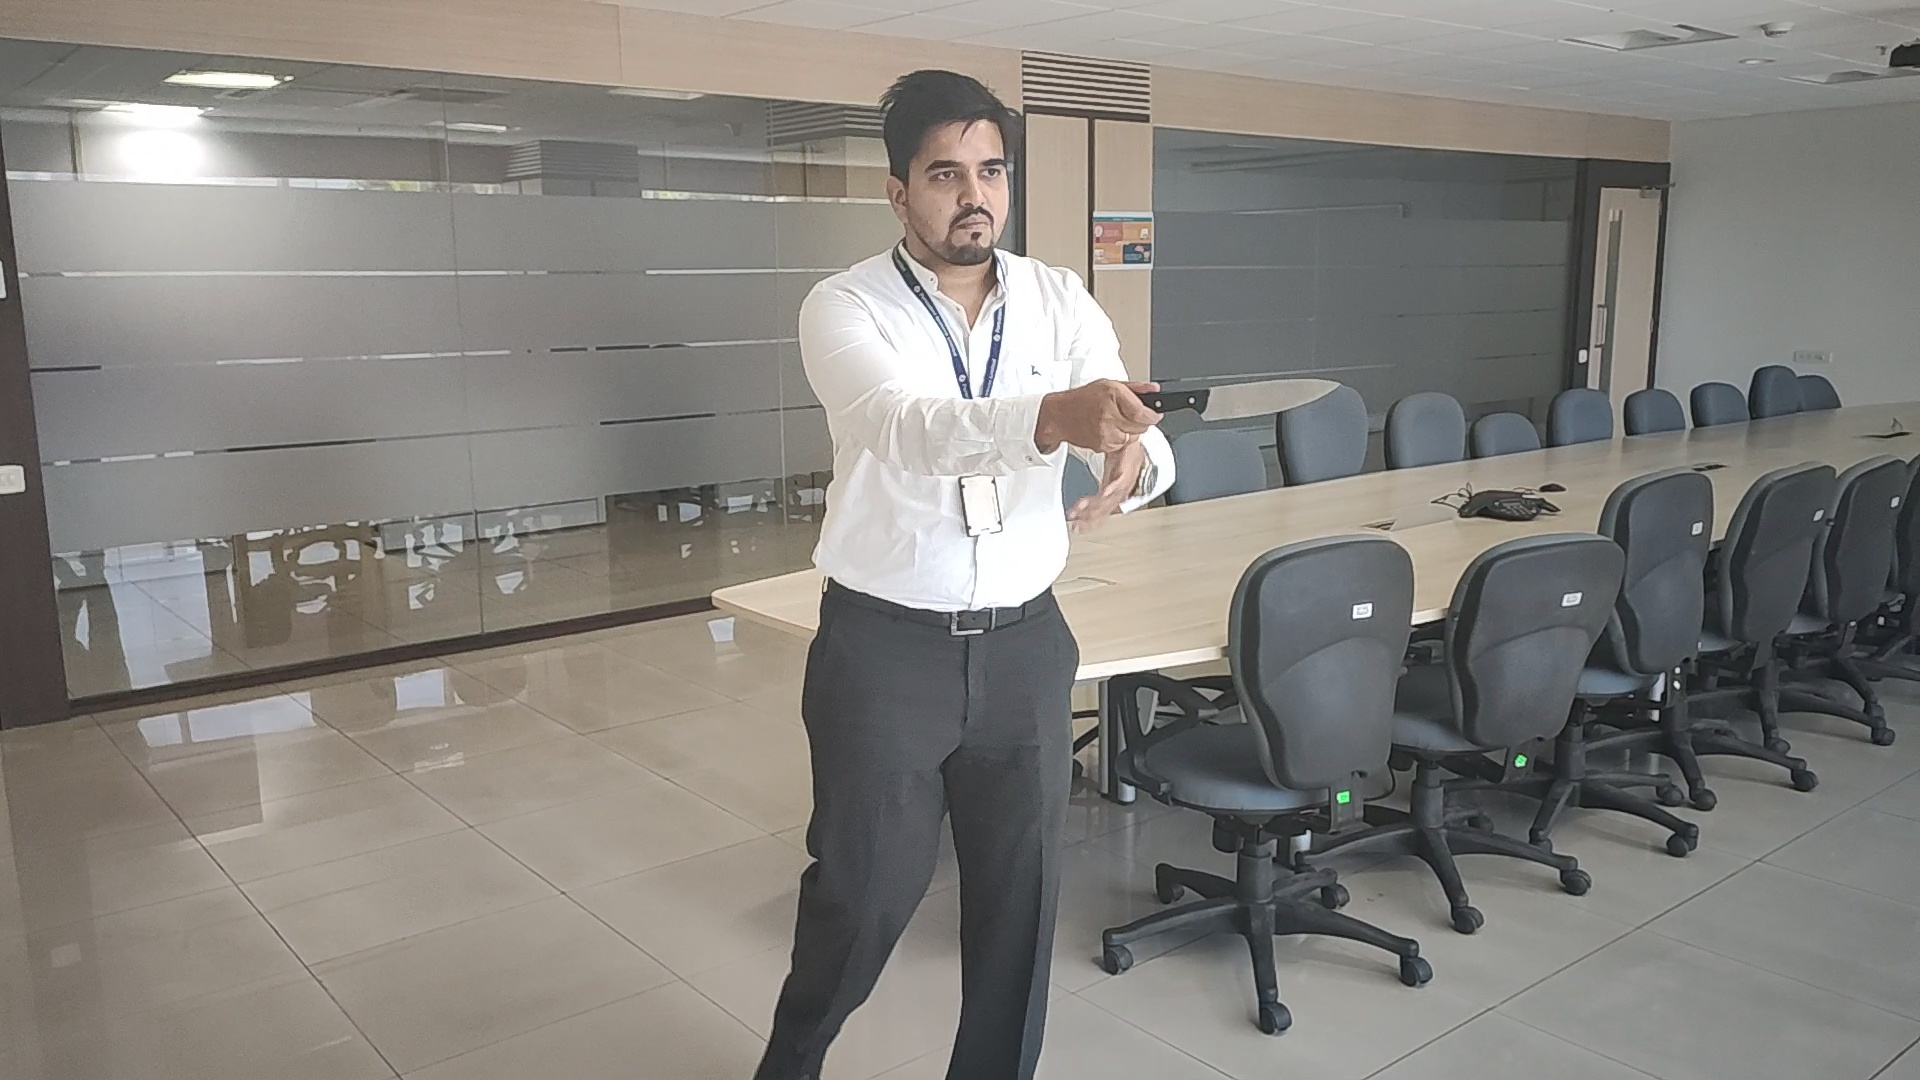knife: (1168, 377, 1344, 423)
